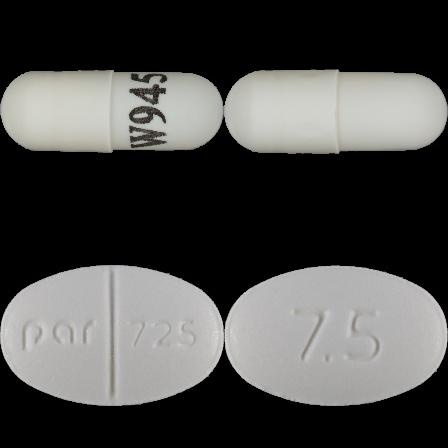16590-724: (0, 0, 224, 224)
